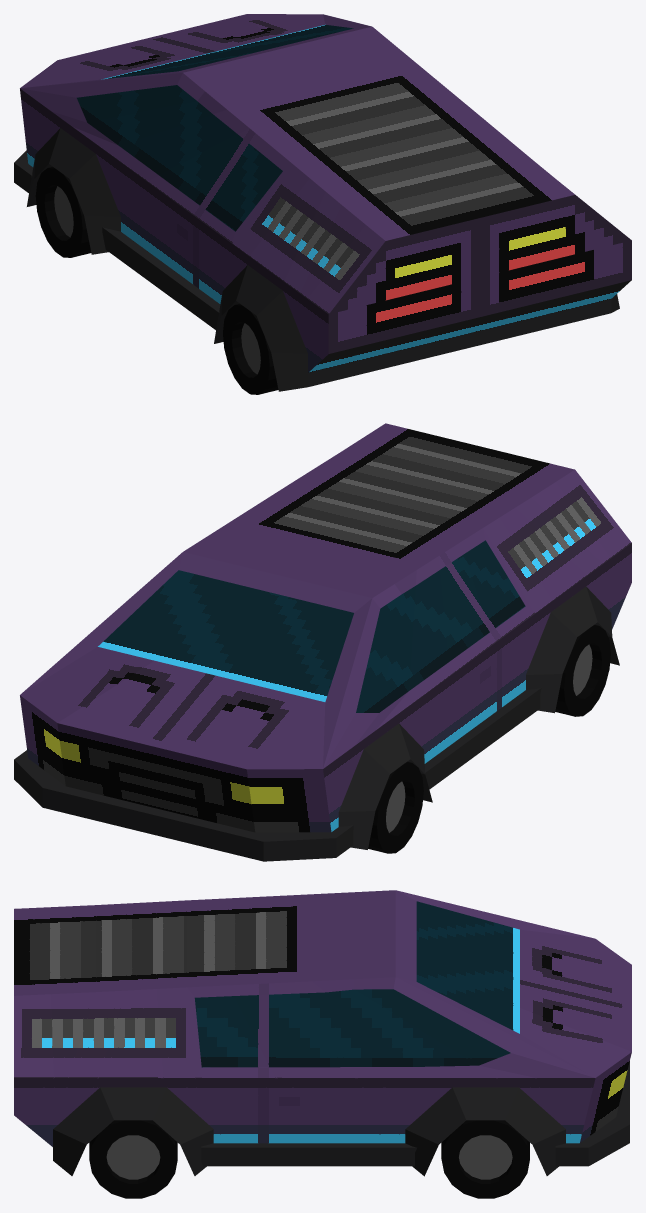
File: Cyberpunk_Car1.gltf
The picture shows the model from 3 angles, top to bottom: view 1: azimuth 30°, elevation 25°; view 2: azimuth 150°, elevation 25°; view 3: azimuth 270°, elevation 25°; orthographic projection. The views are drawn at different scales.
Parts seen in each view (by area): view 1: cuboid, Fender (×2), Wheel (×2), Under, Front; view 2: cuboid, Front, Fender (×2), Wheel (×2), Under; view 3: cuboid, Fender (×2), Wheel (×2), Under, Front.
Part boxes in pixels (x1=…): cuboid: x1=20, y1=14, x2=631, y2=372; Fender (×2): x1=27, y1=128, x2=619, y2=391; Wheel (×2): x1=35, y1=166, x2=278, y2=394; Under: x1=102, y1=227, x2=220, y2=329; Front: x1=14, y1=150, x2=33, y2=192; cuboid: x1=20, y1=423, x2=631, y2=832; Front: x1=14, y1=750, x2=353, y2=861; Fender (×2): x1=338, y1=586, x2=619, y2=849; Wheel (×2): x1=368, y1=624, x2=610, y2=853; Under: x1=424, y1=688, x2=541, y2=789; cuboid: x1=14, y1=890, x2=631, y2=1146; Fender (×2): x1=53, y1=1087, x2=565, y2=1176; Wheel (×2): x1=89, y1=1120, x2=529, y2=1198; Under: x1=201, y1=1143, x2=416, y2=1166; Front: x1=555, y1=1061, x2=629, y2=1166.
Size of the model in its own units: 1.13 by 0.6252 by 1.88.
Materials: 1 (1 with a texture image).
